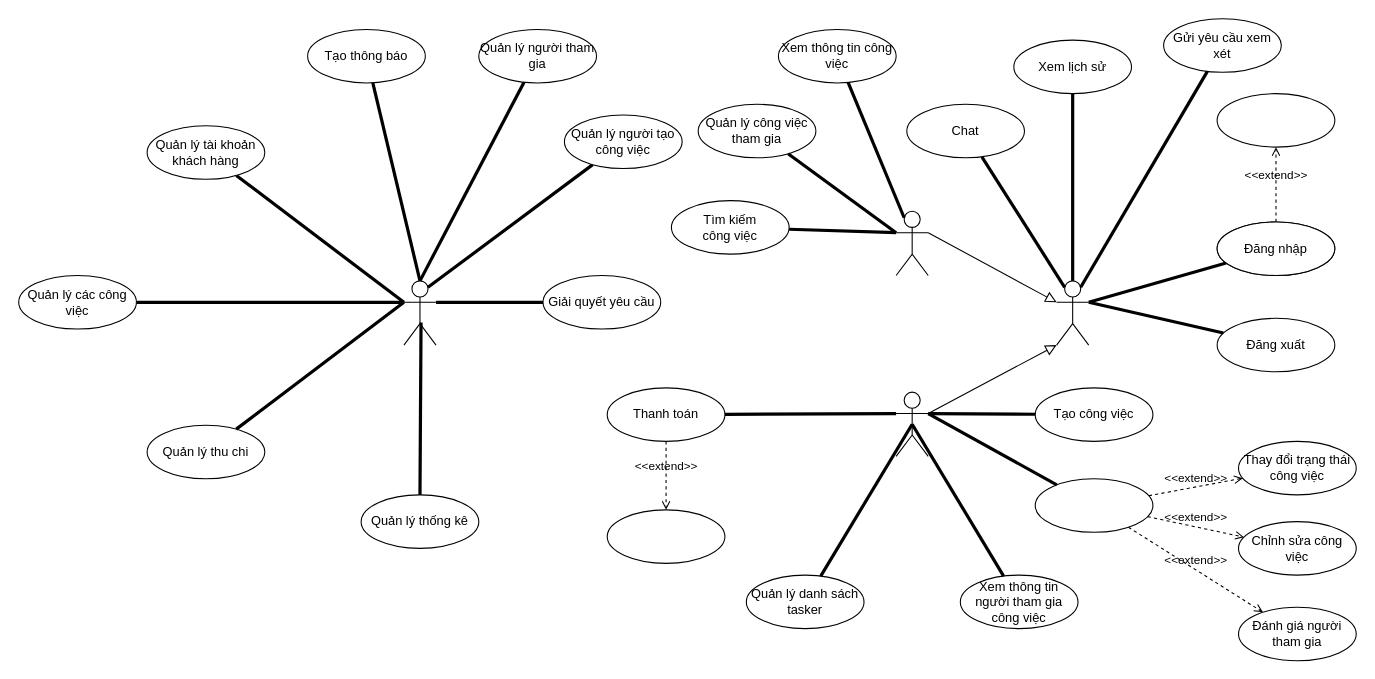
Image size: 1375x679. Some labels were removed from this diagram. The shapes that lost their labels are listed below. From the top down, each one's centre as x and y in pixels, then its label:
At pixel 1275 120: "Đăng ký".
At pixel 911 243: "Người tham gia".
At pixel 419 312: "Quản trị".
At pixel 1072 312: "Khách hàng".
At pixel 911 423: "Người tạo việc".
At pixel 1093 505: "Quản lí công việc đã tạo".
At pixel 665 536: "Xem lịch sử giao dịch".
